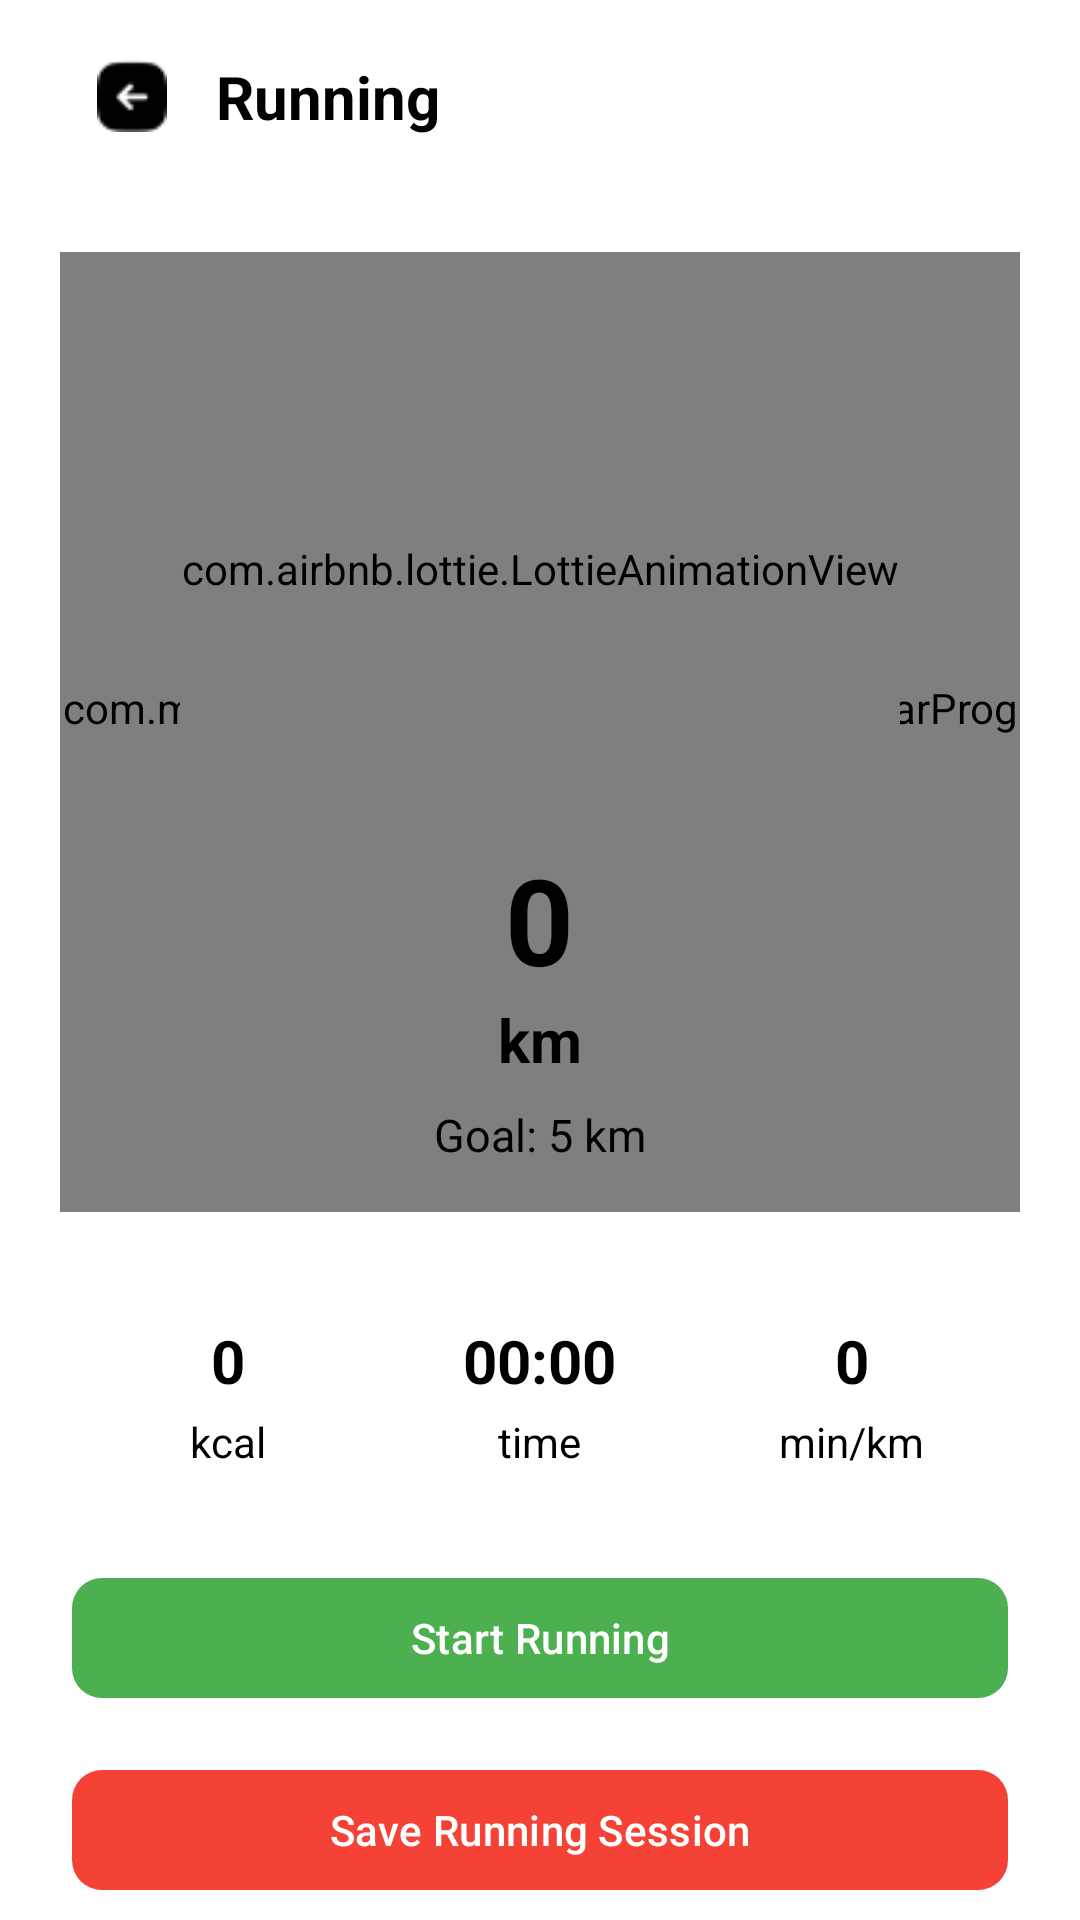

Icon click points for this 1080x1920 phone screenshot, format (x=x, y=y):
Back: (x=132, y=96)
